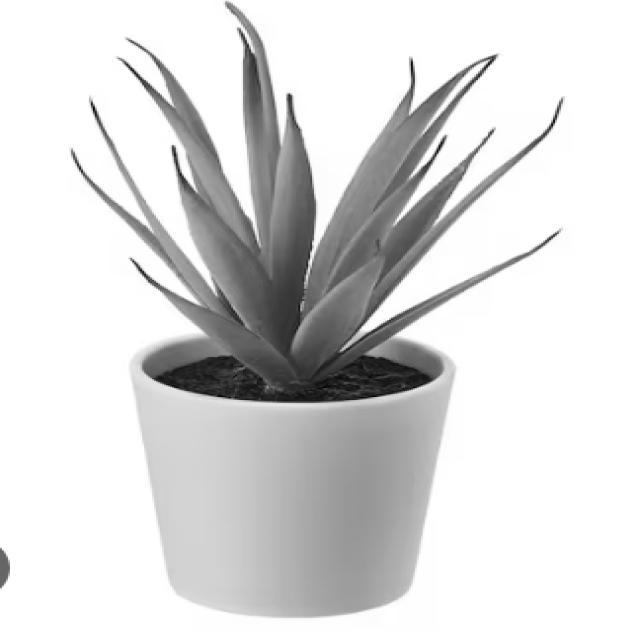Plant Pot: (102, 324, 510, 631)
